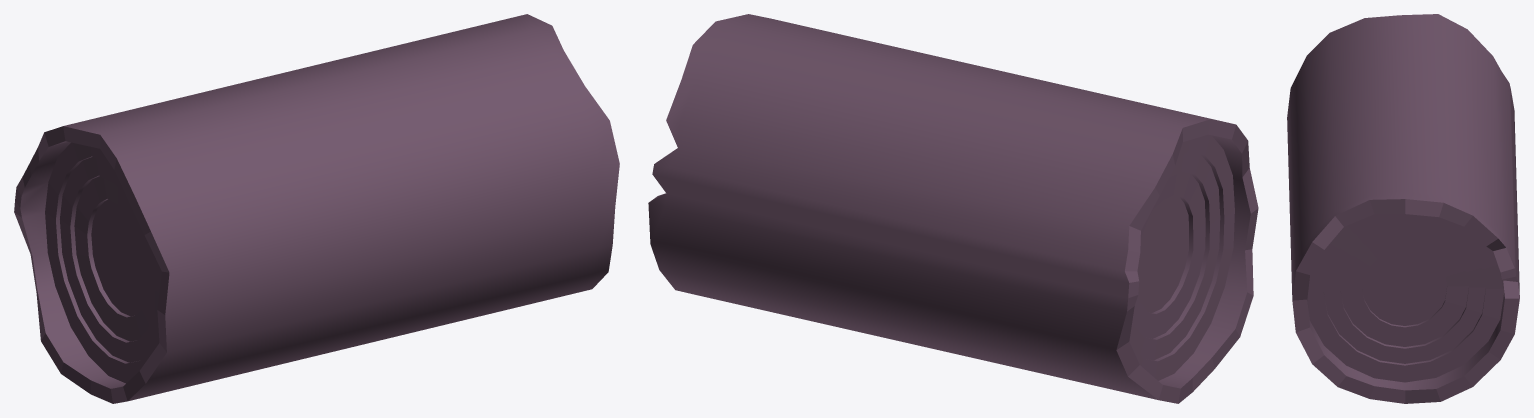
Rendered from SM_Log1.fbx.
3 renders of one model, left to right at view 1: azimuth 30°, elevation 25°; view 2: azimuth 150°, elevation 25°; view 3: azimuth 270°, elevation 25°, orthographic. The views are drawn at different scales.
Visible parts, largest first — view 1: long log; view 2: long log; view 3: long log.
Boxes of the visible parts, left/top/right/bottom form: long log: left=14, top=14, right=619, bottom=403; long log: left=648, top=14, right=1258, bottom=403; long log: left=1287, top=14, right=1519, bottom=403.
Bounding box in the file's own units: 395 × 207 × 206.
